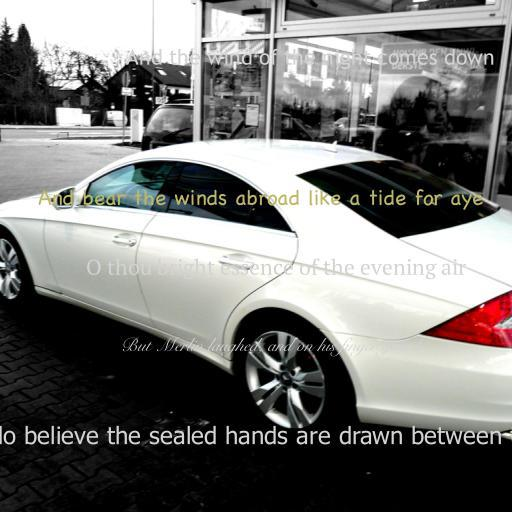Chalkboard: (37, 189, 483, 210)
PT Serif: (86, 258, 466, 280)
Snell Roundhand: (121, 337, 419, 357)
Tahoma: (0, 425, 512, 445)
Trebuchet MS: (125, 48, 495, 70)
